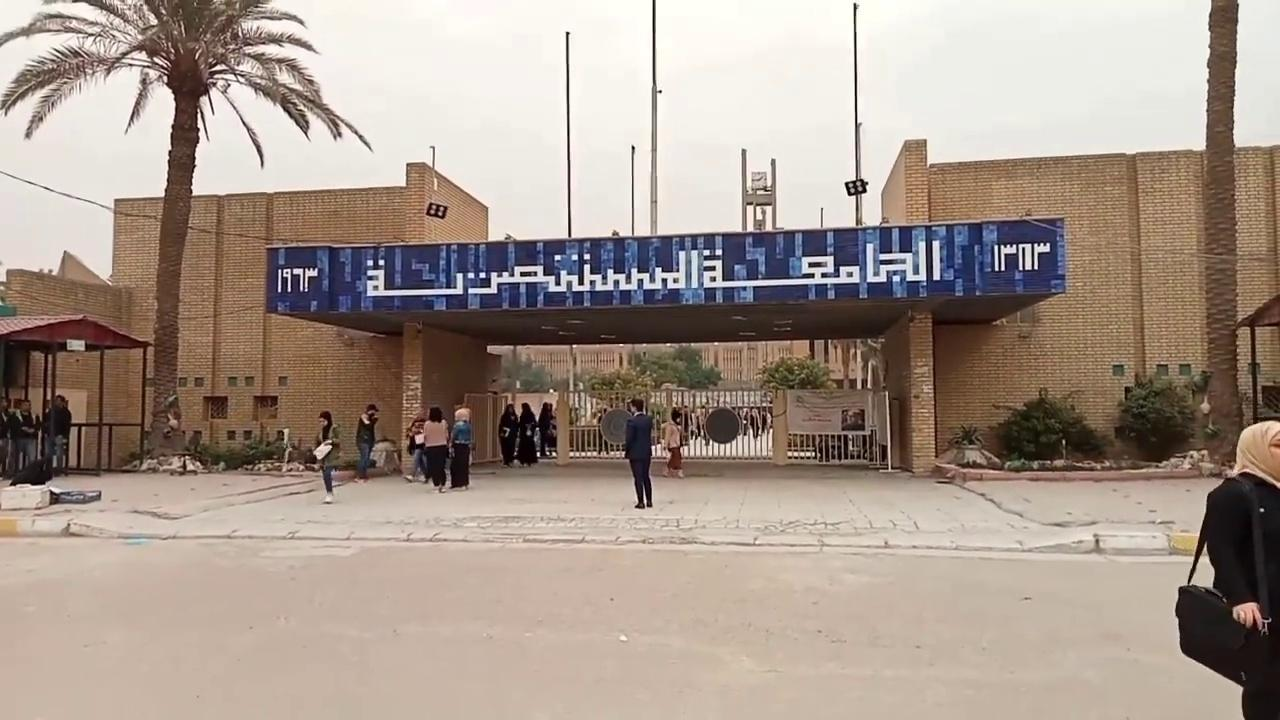person: (1200, 419, 1279, 718), (623, 398, 654, 508), (419, 406, 451, 492), (313, 410, 341, 503), (44, 394, 72, 476), (352, 403, 379, 483), (448, 407, 474, 489), (403, 408, 430, 483), (659, 408, 685, 478), (515, 402, 537, 466), (498, 403, 518, 467), (537, 401, 553, 456)
tree: (0, 0, 372, 461), (1196, 0, 1246, 464), (754, 353, 837, 460), (988, 385, 1100, 462), (1114, 371, 1199, 461), (636, 343, 722, 390), (582, 364, 654, 412), (754, 353, 836, 392)
